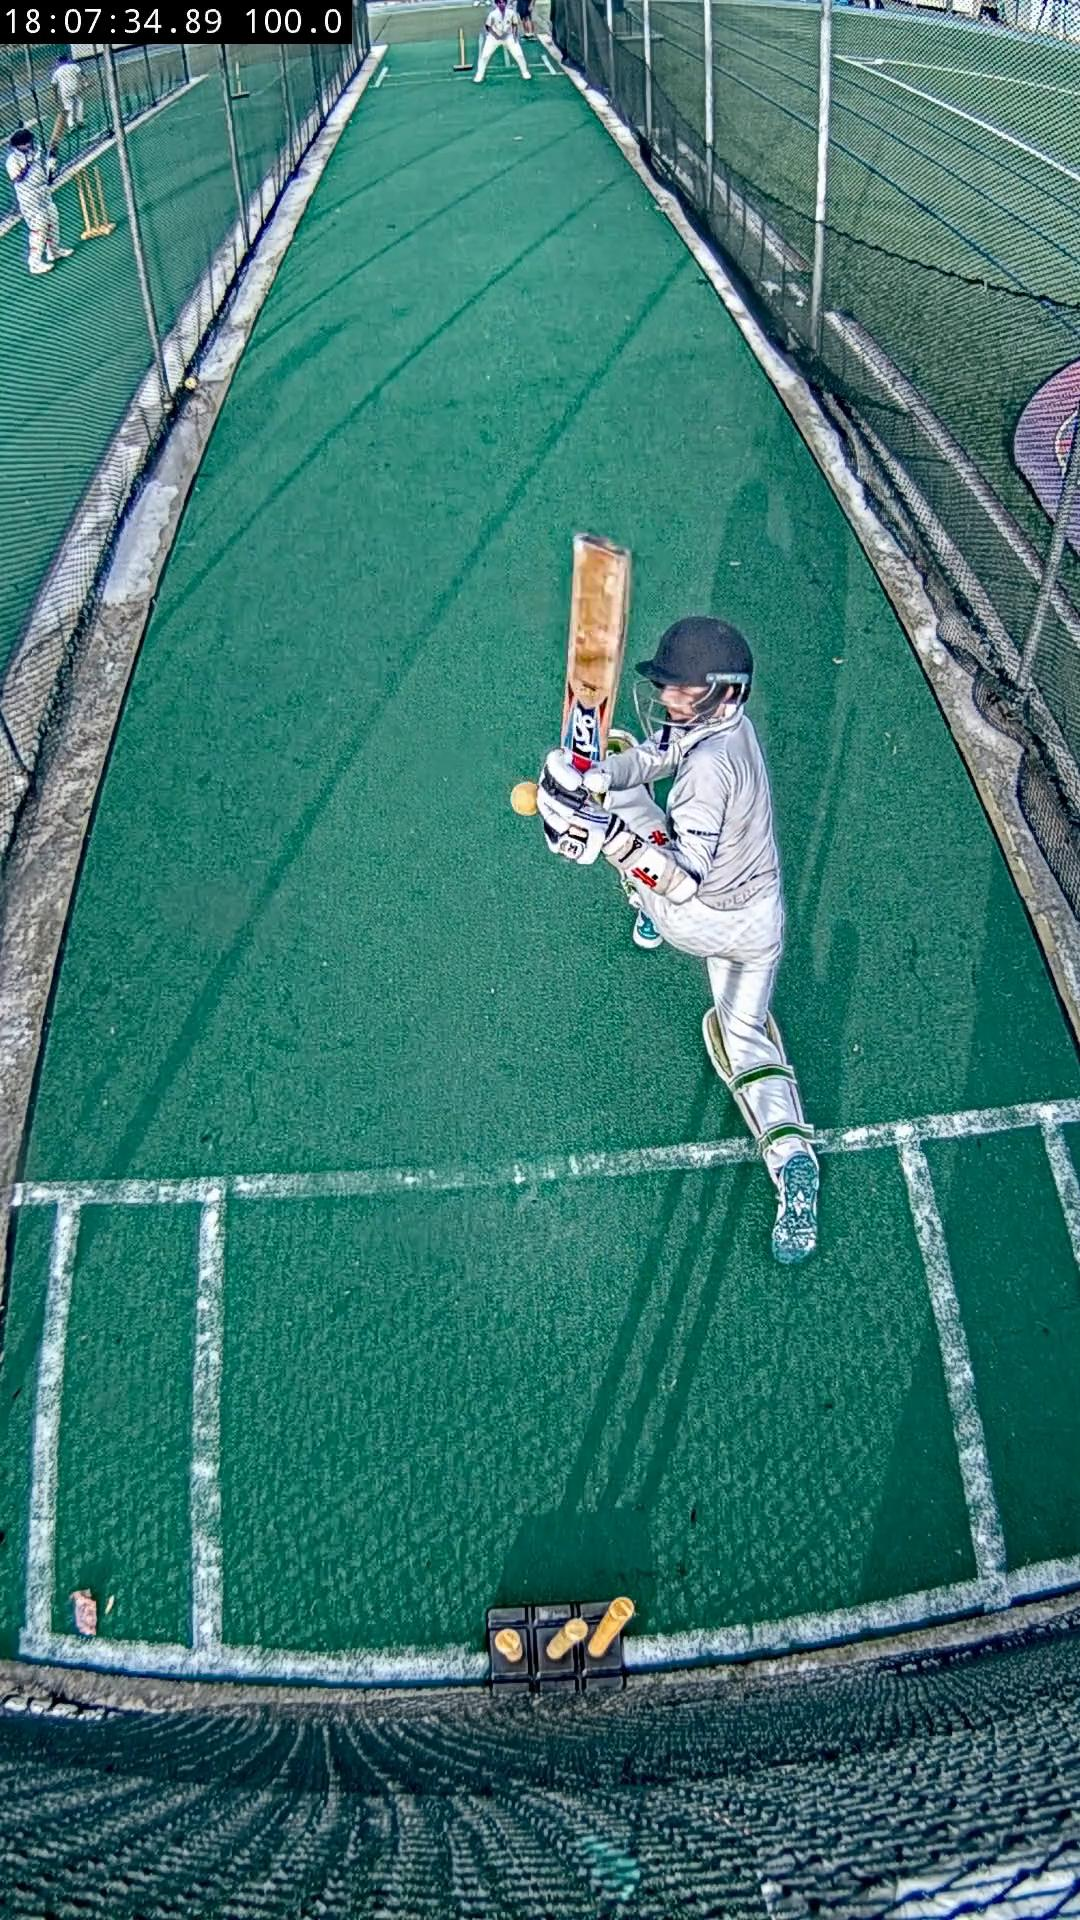ball: (510, 781, 537, 818)
bat: (563, 533, 630, 769)
gloves: (537, 750, 615, 864)
helmet: (637, 615, 754, 719)
pads: (702, 1009, 757, 1137)
stumps: (488, 1597, 634, 1692)
